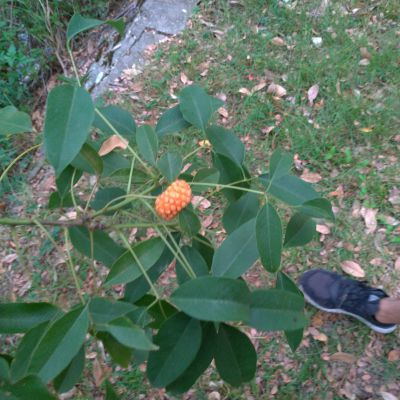eggs: (150, 173, 195, 218)
